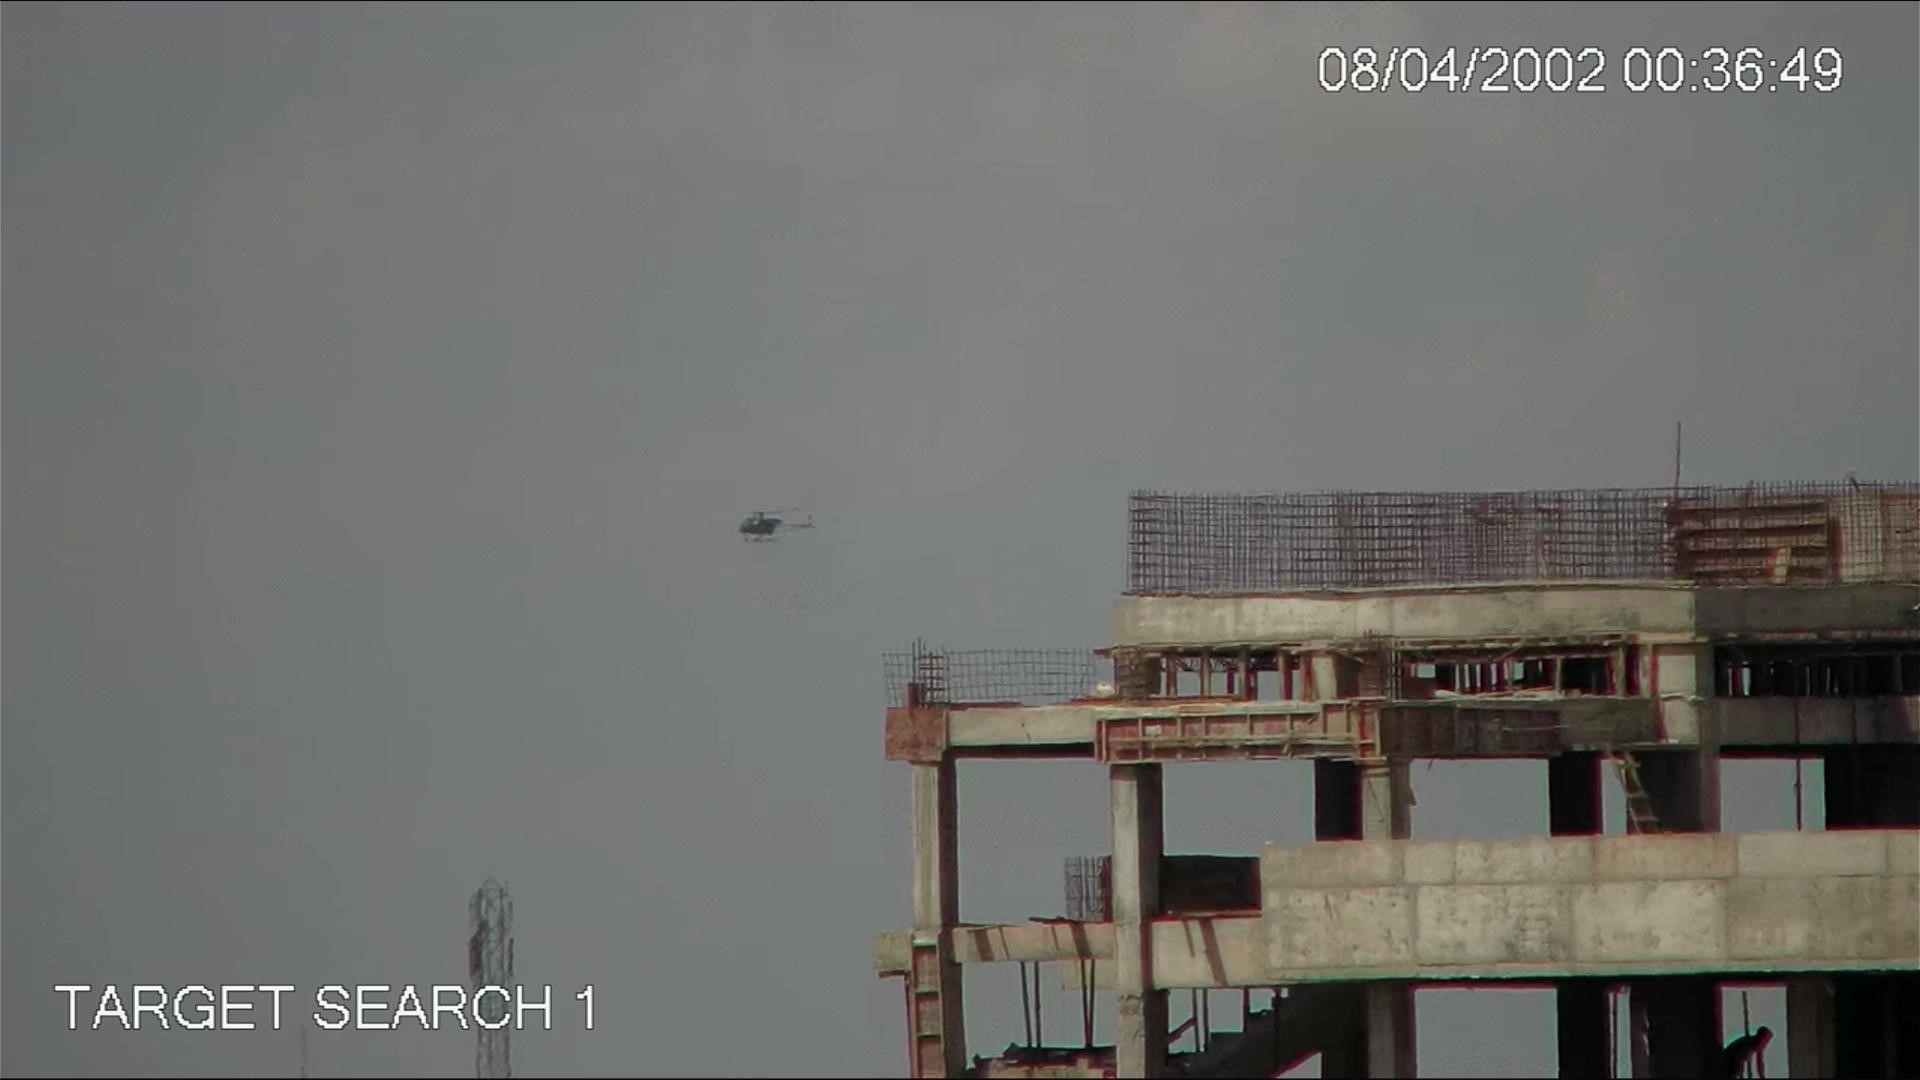SU_30: (736, 506, 822, 543)
